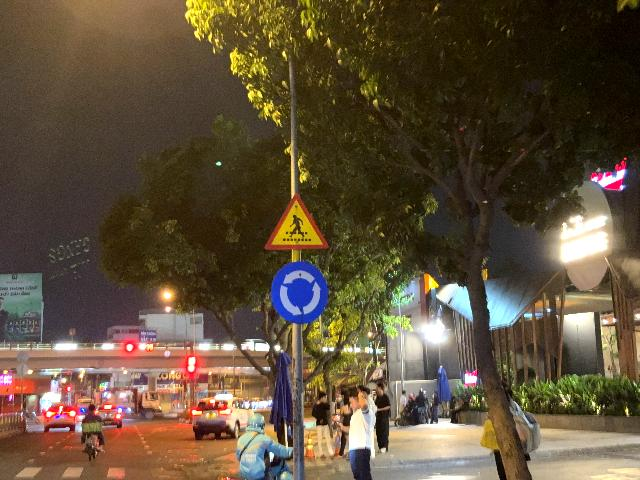duong-nguoi-di-bo-cat-ngang: (265, 193, 329, 249)
noi-giao-nhau-chay-theo-vong-xuyen: (271, 261, 328, 324)
